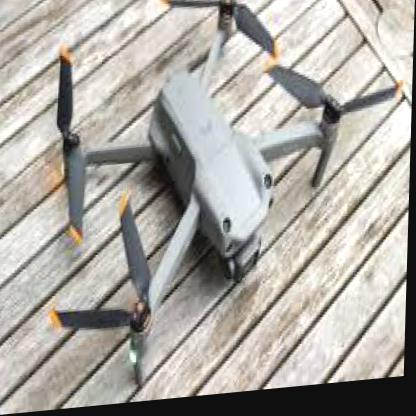UAS: (48, 0, 406, 392)
